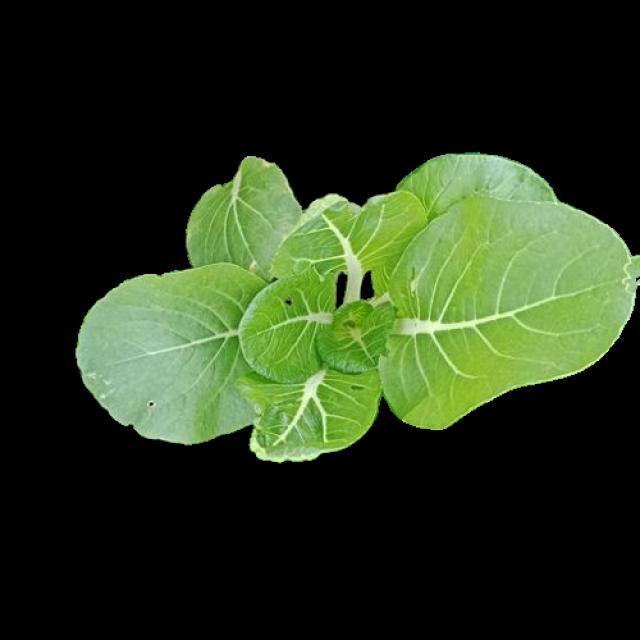not-mature: (79, 155, 640, 458)
unhealthy: (380, 196, 640, 427), (78, 265, 264, 443), (272, 192, 428, 274), (247, 371, 379, 456), (241, 274, 338, 381)
